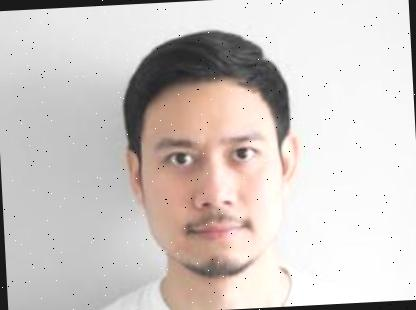person: (49, 13, 359, 310)
